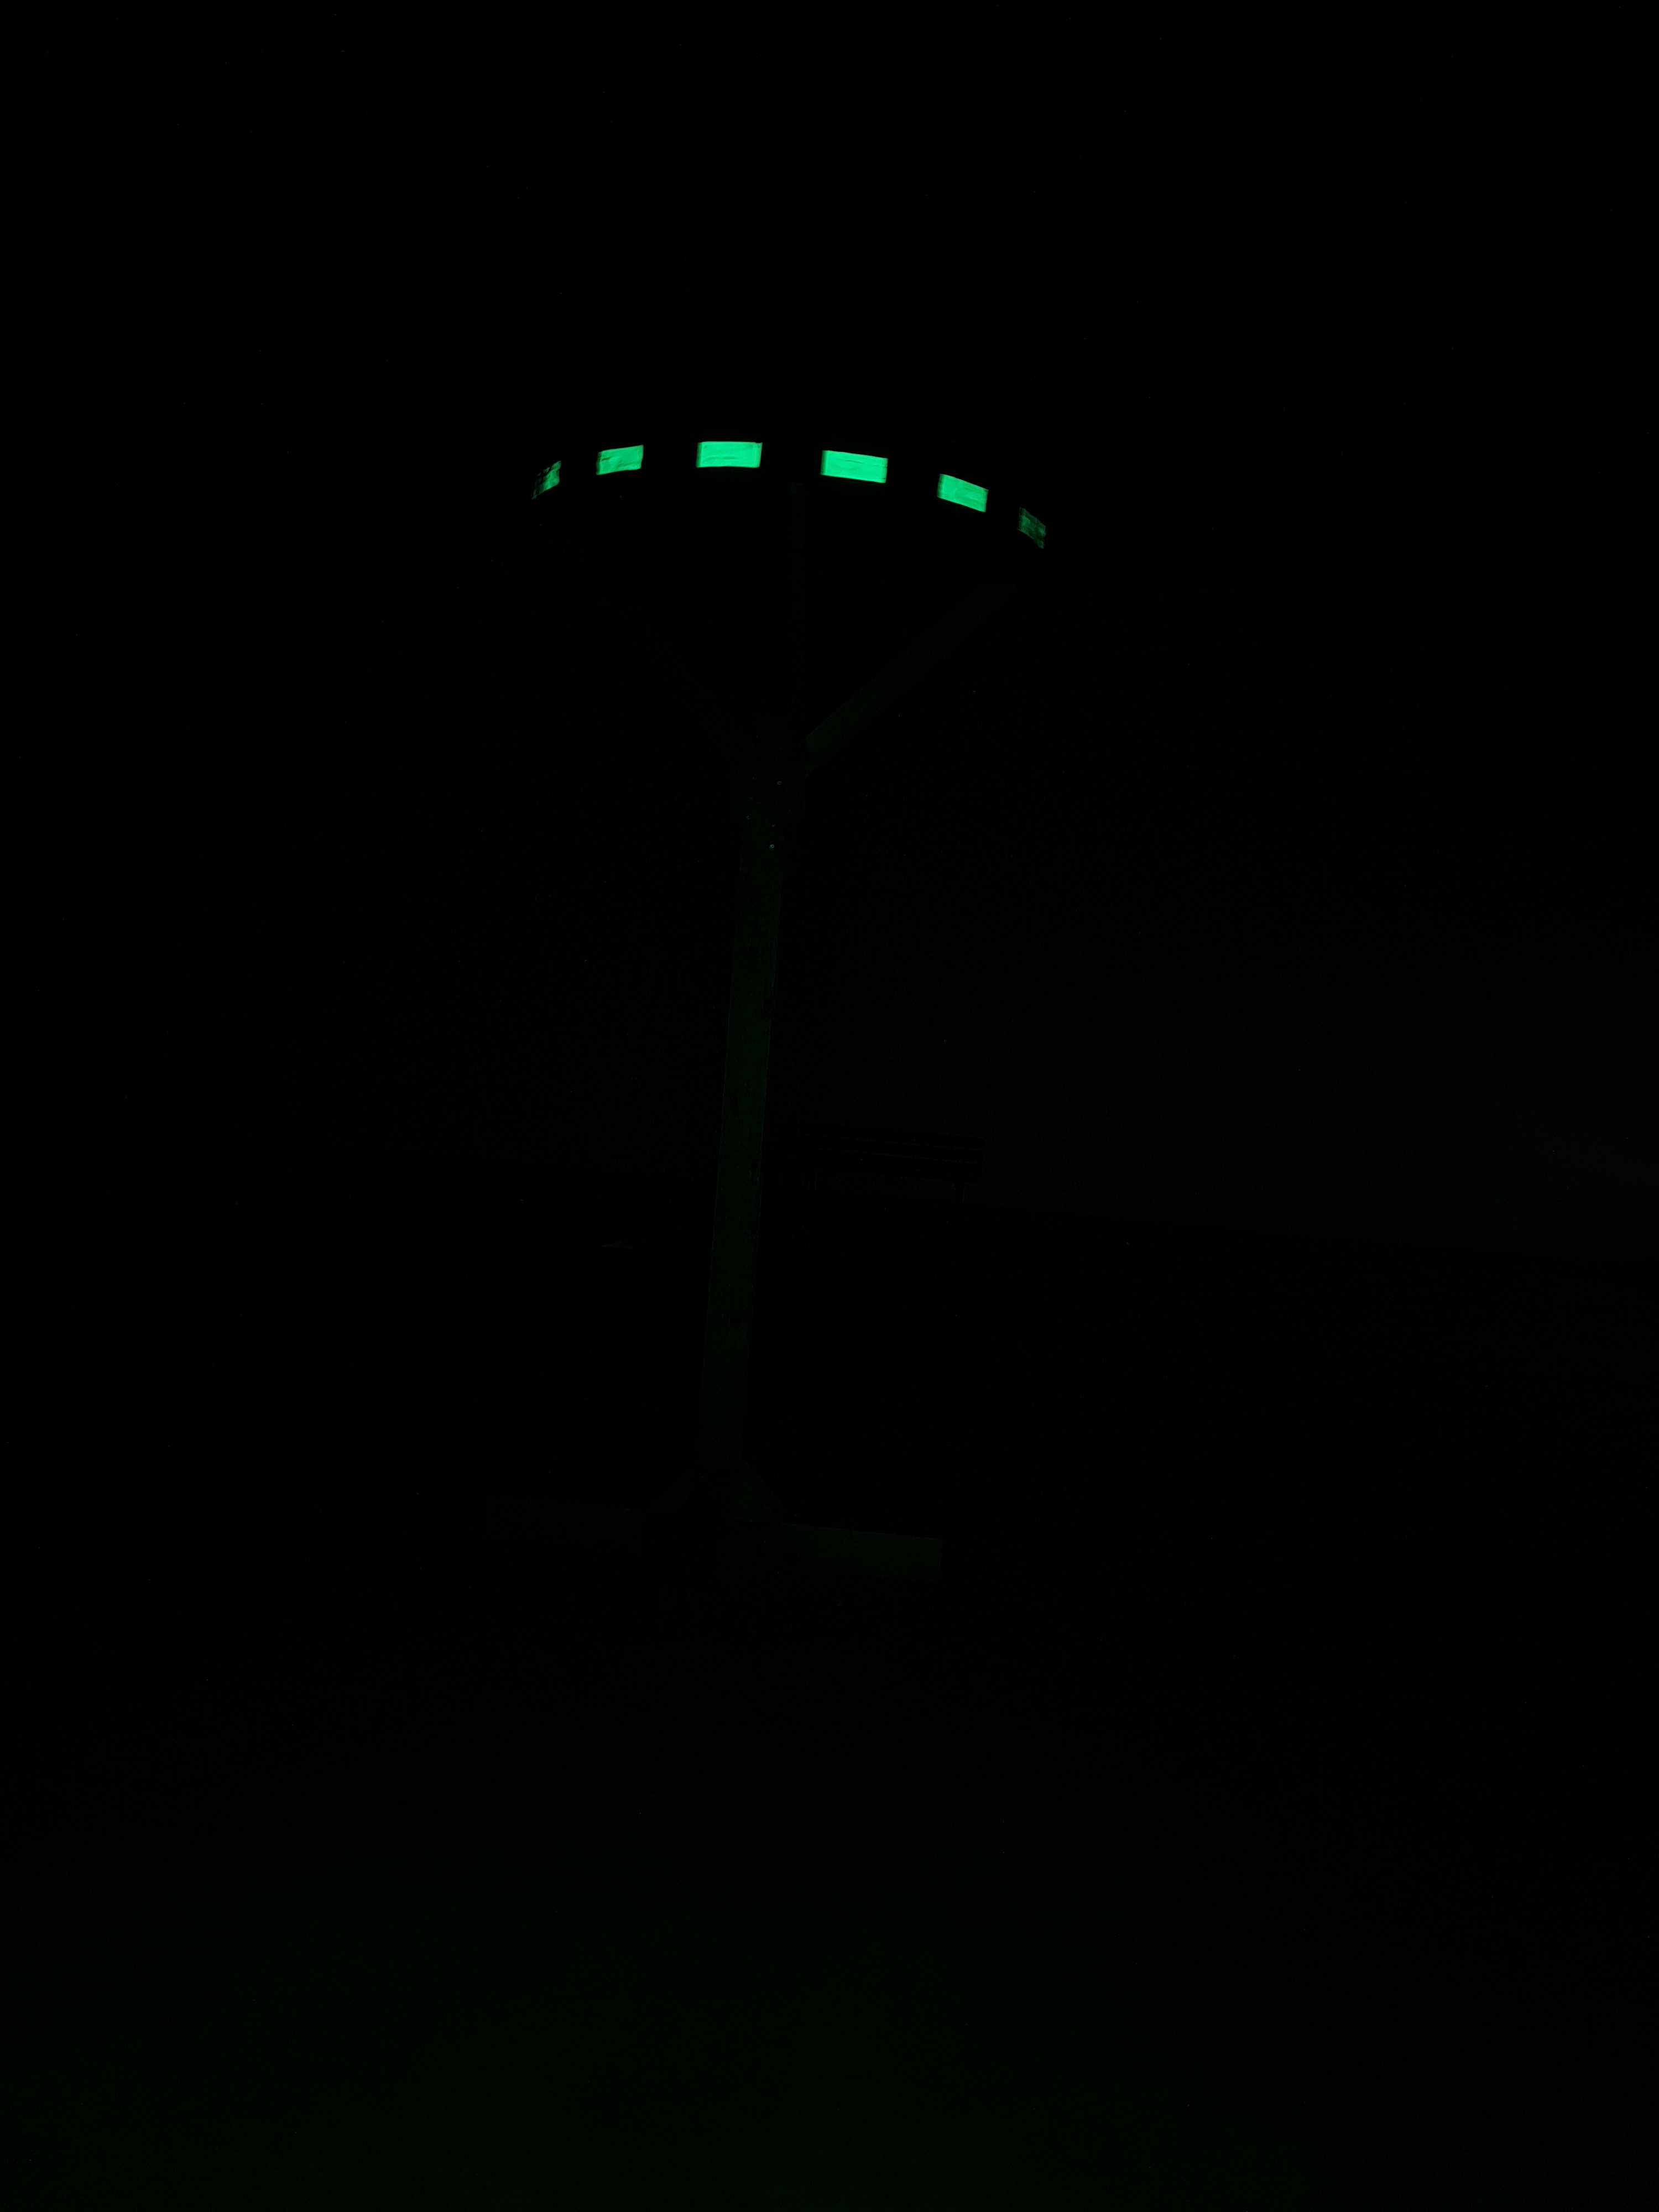hoop: (528, 420, 1054, 554)
